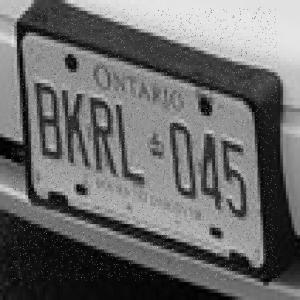Plate: (11, 7, 278, 281)
